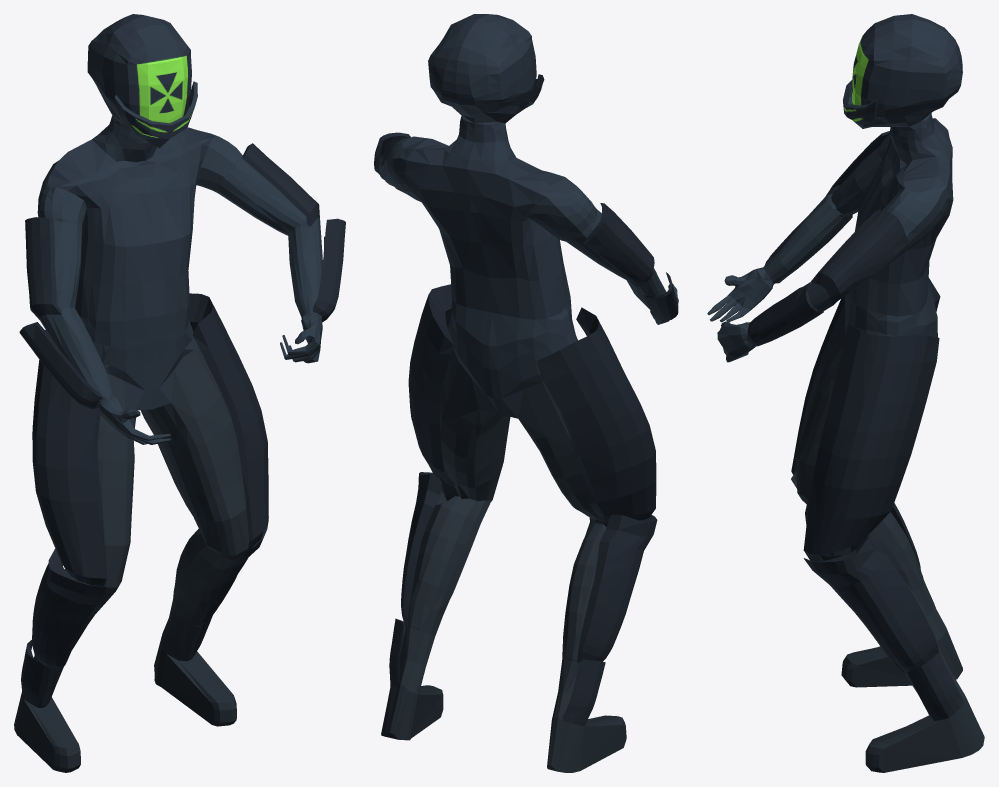
The model's file is Bastion_Hit_Recover_000009.obj.
The picture shows the model from 3 angles, left to right: view 1: azimuth 30°, elevation 25°; view 2: azimuth 150°, elevation 25°; view 3: azimuth 270°, elevation 25°; orthographic projection. The views are drawn at different scales.
Visible parts, largest first — view 1: Cube.002; view 2: Cube.002; view 3: Cube.002.
Boxes of the visible parts, left/top/right/bottom form: Cube.002: left=14, top=14, right=345, bottom=772; Cube.002: left=374, top=14, right=678, bottom=772; Cube.002: left=707, top=14, right=984, bottom=772.
Bounding box in the file's own units: 1.66 × 3.67 × 1.29.
